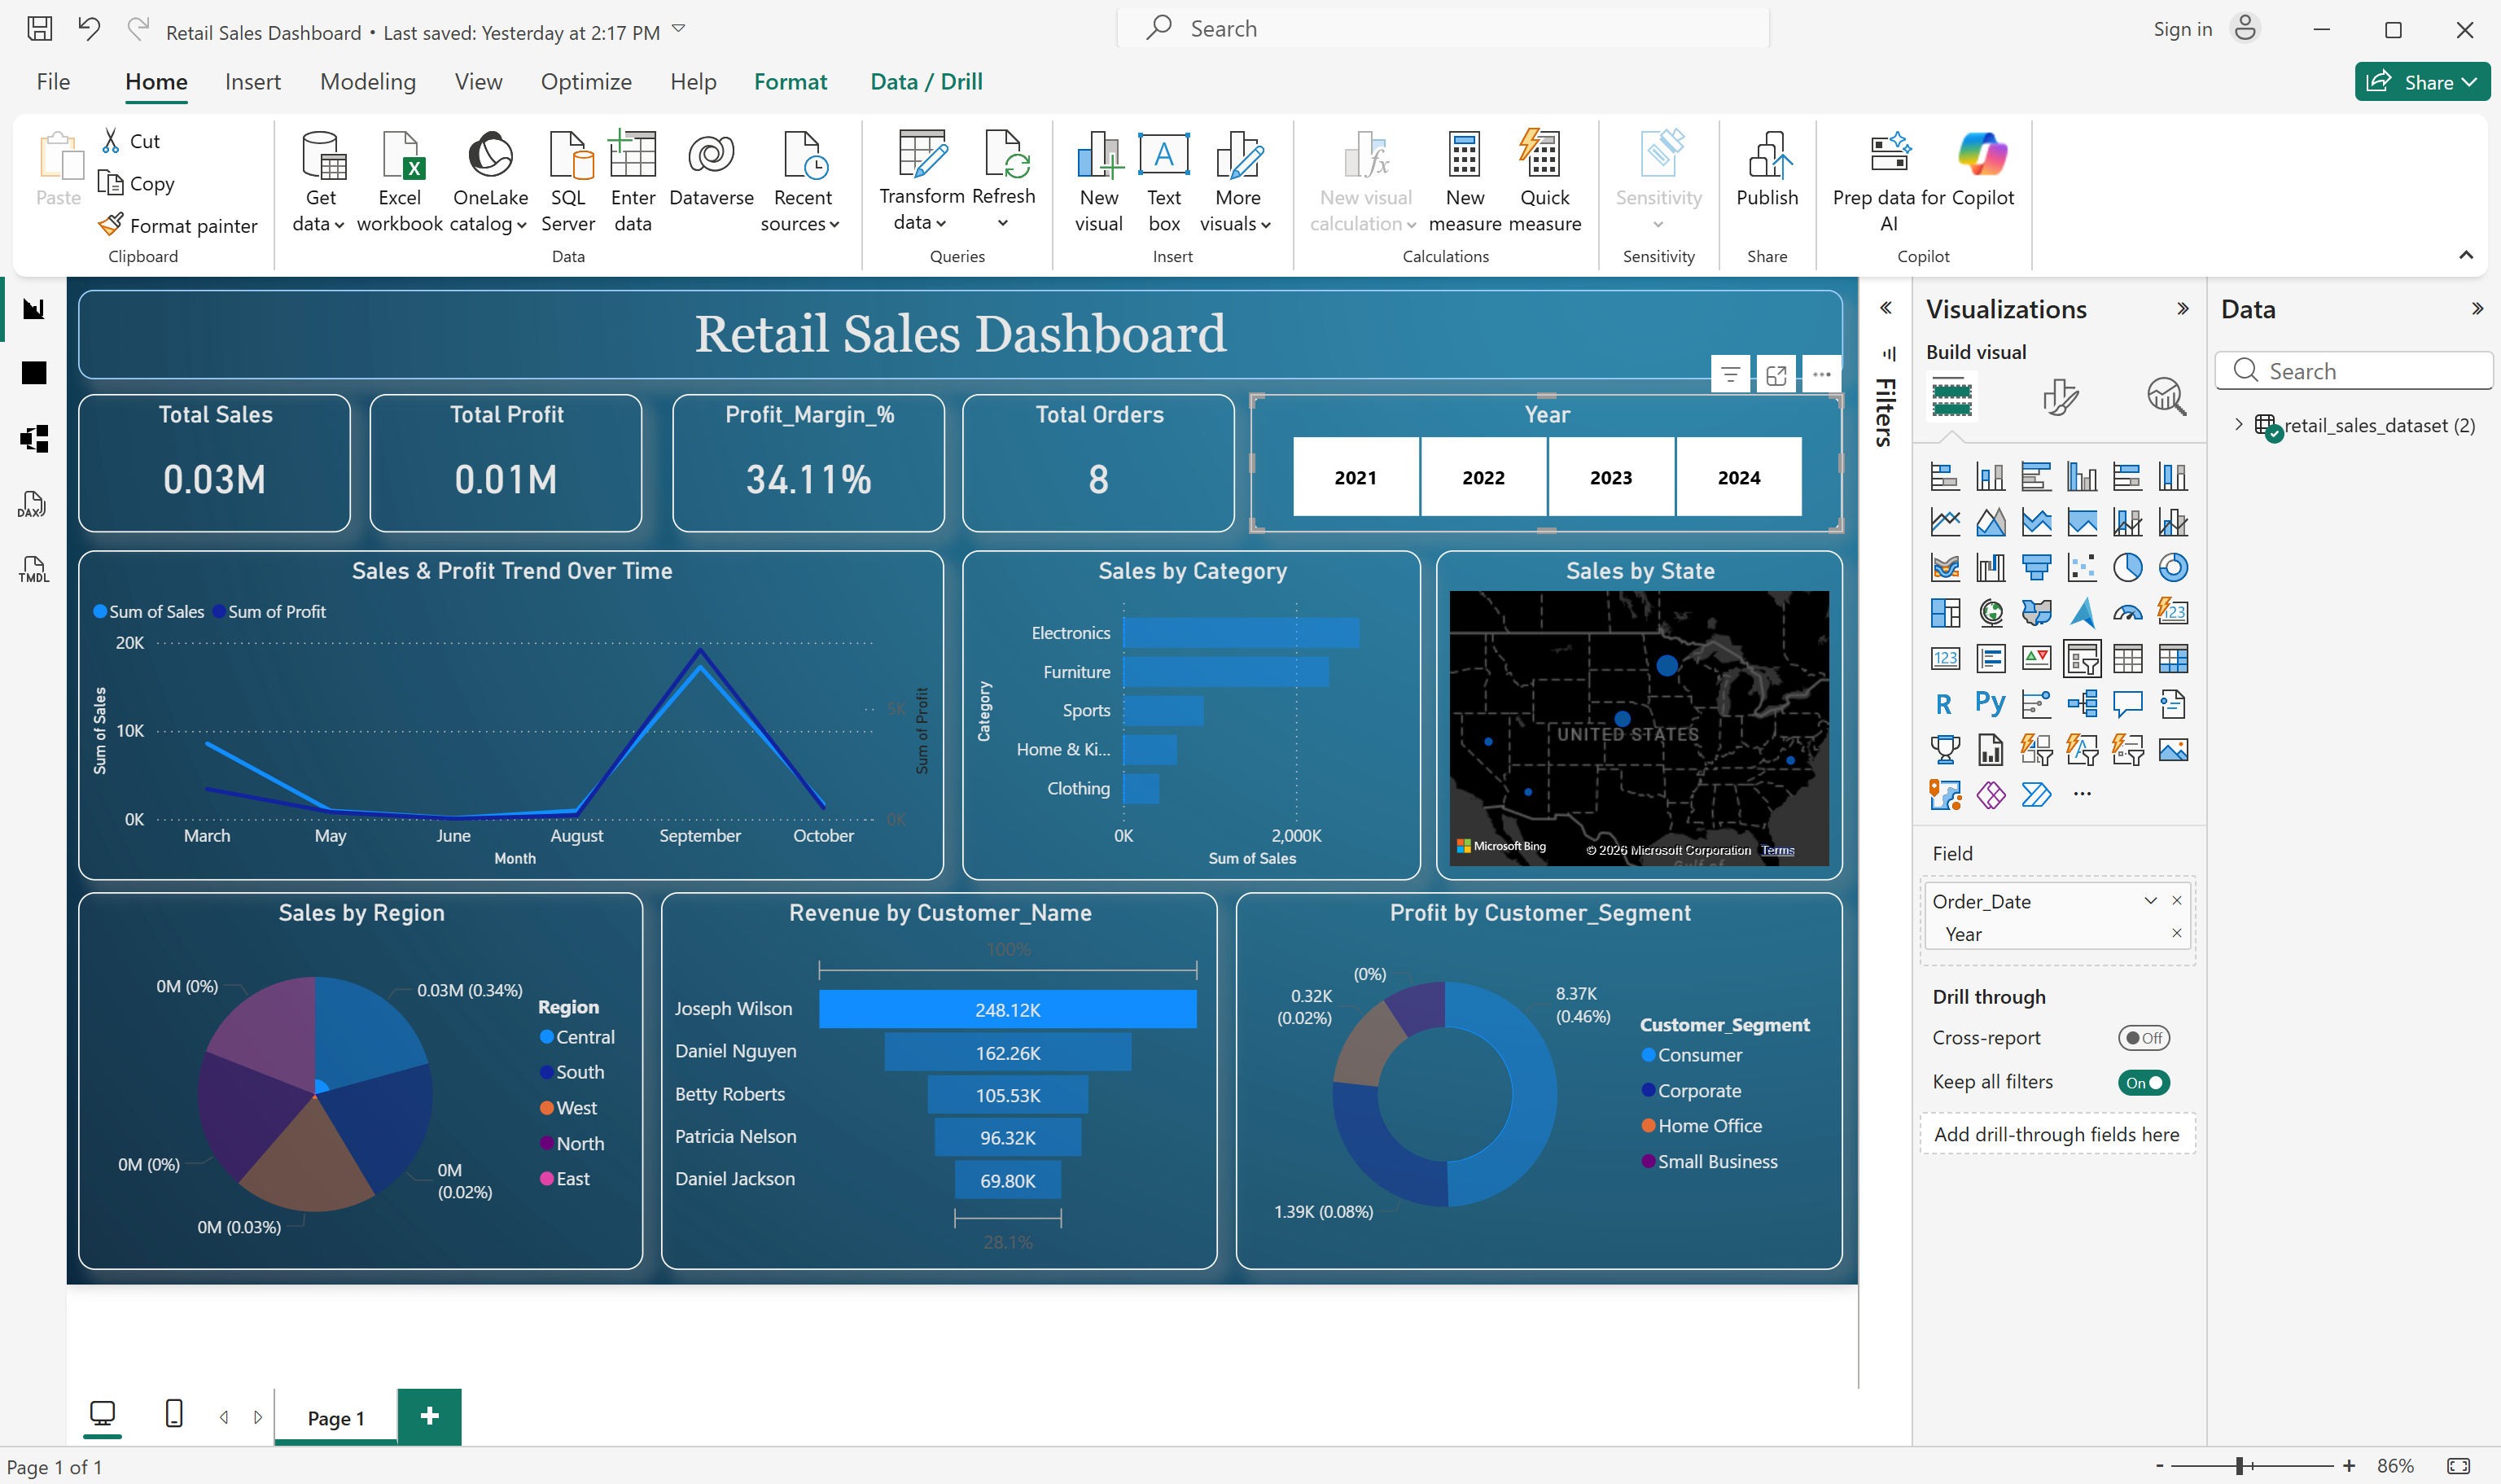

What the dashboard file says about the page in this screenshot:
{"tool":"powerbi","page":{"name":"Page 1","canvas":[1280,720],"ordinal":0},"visuals":[{"type":"textbox","box":[8.1,9.3,1261.4,64],"z":0},{"type":"card","title":"Total Sales","fields":{"Values":["Sum(retail_sales_dataset (2).Sales)"]},"box":[8.2,83.8,195,98.9],"z":1000},{"type":"card","title":"Total Profit","fields":{"Values":["Sum(retail_sales_dataset (2).Profit)"]},"box":[217,83.8,195,98.9],"z":2000},{"type":"card","title":"Profit_Margin_%","fields":{"Values":["retail_sales_dataset (2).Profit Margin %"]},"box":[432.6,83.8,195,98.9],"z":3000},{"type":"card","title":"Total Orders","fields":{"Values":["Count(retail_sales_dataset (2).Order_ID)"]},"box":[640,83.8,195,98.9],"z":4000},{"type":"lineChart","title":"Sales & Profit Trend Over Time","fields":{"Category":["retail_sales_dataset (2).Order_Date.Variation.Date Hierarchy.Month"],"Y":["Sum(retail_sales_dataset (2).Sales)"],"Y2":["Sum(retail_sales_dataset (2).Profit)"]},"box":[8.1,195.5,619.1,236.2],"z":5000},{"type":"barChart","title":"Sales by Category","fields":{"Category":["retail_sales_dataset (2).Category"],"Y":["Sum(retail_sales_dataset (2).Sales)"]},"box":[640,195.5,328.1,236.2],"z":6000},{"type":"map","title":" Sales by State","fields":{"Category":["retail_sales_dataset (2).State"],"Size":["Sum(retail_sales_dataset (2).Sales)"]},"box":[978.6,195.5,290.9,236.2],"z":7000},{"type":"donutChart","title":"Profit by Customer_Segment","fields":{"Category":["retail_sales_dataset (2).Customer_Segment"],"Y":["Sum(retail_sales_dataset (2).Profit)"]},"box":[835.5,439.9,434,270],"z":8000},{"type":"pieChart","title":"Sales by Region","fields":{"Category":["retail_sales_dataset (2).Region"],"Y":["Sum(retail_sales_dataset (2).Sales)"]},"box":[8.1,439.9,403.8,270],"z":9000},{"type":"funnel","title":"Revenue by Customer_Name","fields":{"Category":["retail_sales_dataset (2).Customer_Name"],"Y":["Sum(retail_sales_dataset (2).Revenue)"]},"box":[424.7,439.9,398,270],"z":10000},{"type":"slicer","title":"Year","fields":{"Values":["retail_sales_dataset (2).Order_Date.Variation.Date Hierarchy.Year"]},"box":[846,83.8,423,98.9],"z":11000}]}

Visuals, with their boxes on the page's 1280x720 design canvas (x1, y1, x2, y2). These are canvas units, not pixel positions in the 2501x1484 screenshot, which may show the page scaled, cropped or inside an application window:
textbox: 8 9 1270 73
"Total Sales" card: 8 84 203 183
"Total Profit" card: 217 84 412 183
"Profit_Margin_%" card: 433 84 628 183
"Total Orders" card: 640 84 835 183
"Sales & Profit Trend Over Time" lineChart: 8 196 627 432
"Sales by Category" barChart: 640 196 968 432
" Sales by State" map: 979 196 1270 432
"Profit by Customer_Segment" donutChart: 836 440 1270 710
"Sales by Region" pieChart: 8 440 412 710
"Revenue by Customer_Name" funnel: 425 440 823 710
"Year" slicer: 846 84 1269 183
